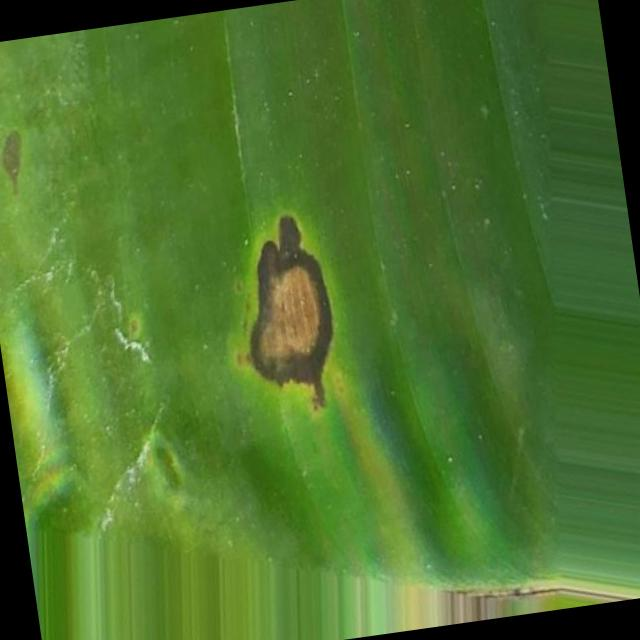Banana_Black_Sigatoka: (223, 200, 394, 460)
